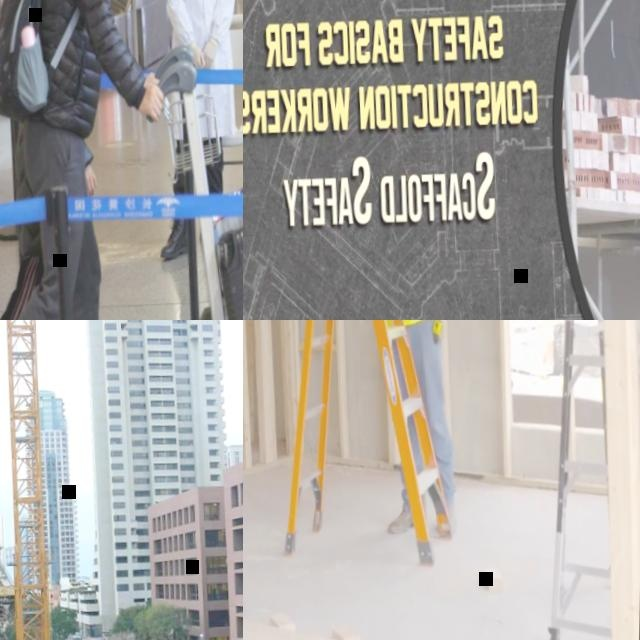NO-Safety Vest: (26, 0, 109, 122), (166, 0, 234, 59)
Person: (0, 0, 186, 320), (0, 0, 136, 320), (138, 0, 243, 264), (357, 320, 464, 540)
